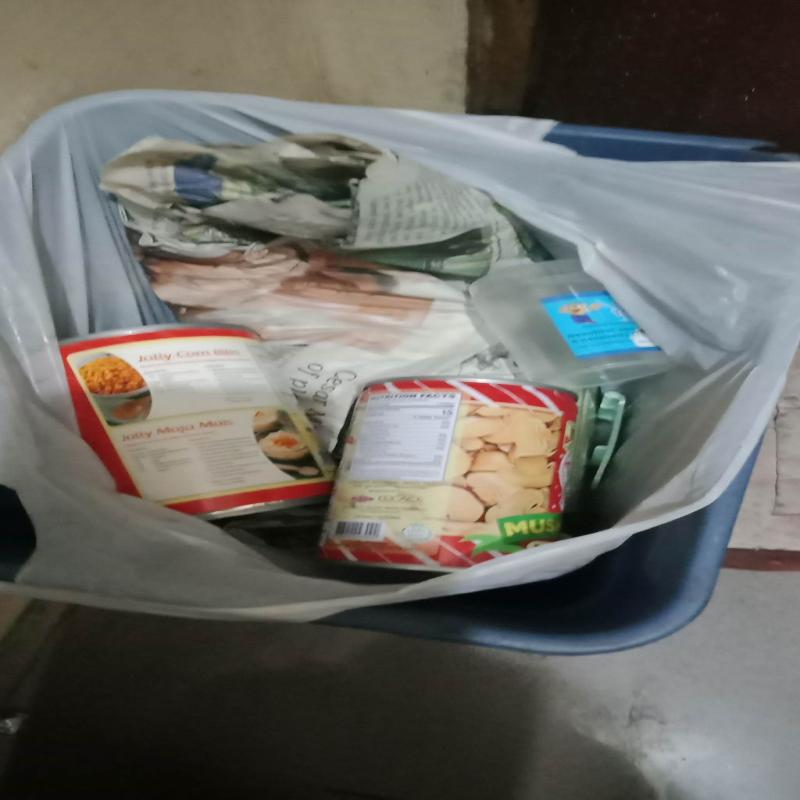aluminum: (59, 323, 332, 521), (316, 377, 579, 573)
paper: (97, 133, 558, 277)
plastic container: (468, 259, 671, 389)
